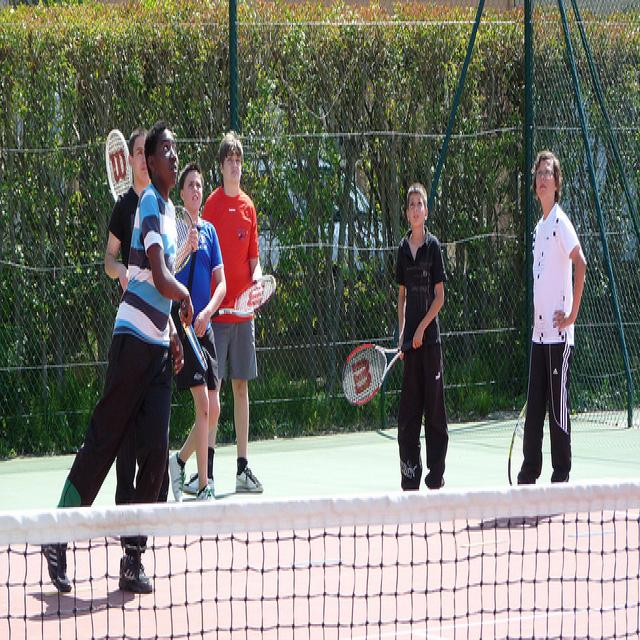Vehicle: (242, 155, 386, 278)
